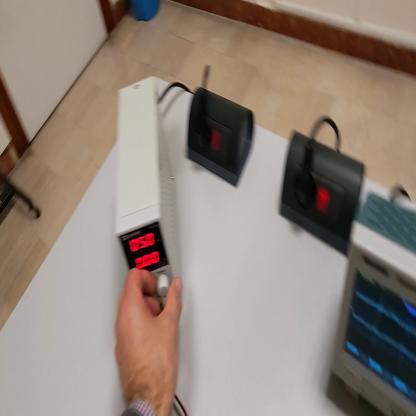hand: (114, 266, 182, 415)
oscilloscope: (330, 188, 416, 413)
power supply: (110, 76, 179, 309)
socket: (278, 127, 368, 257), (186, 87, 258, 190)
